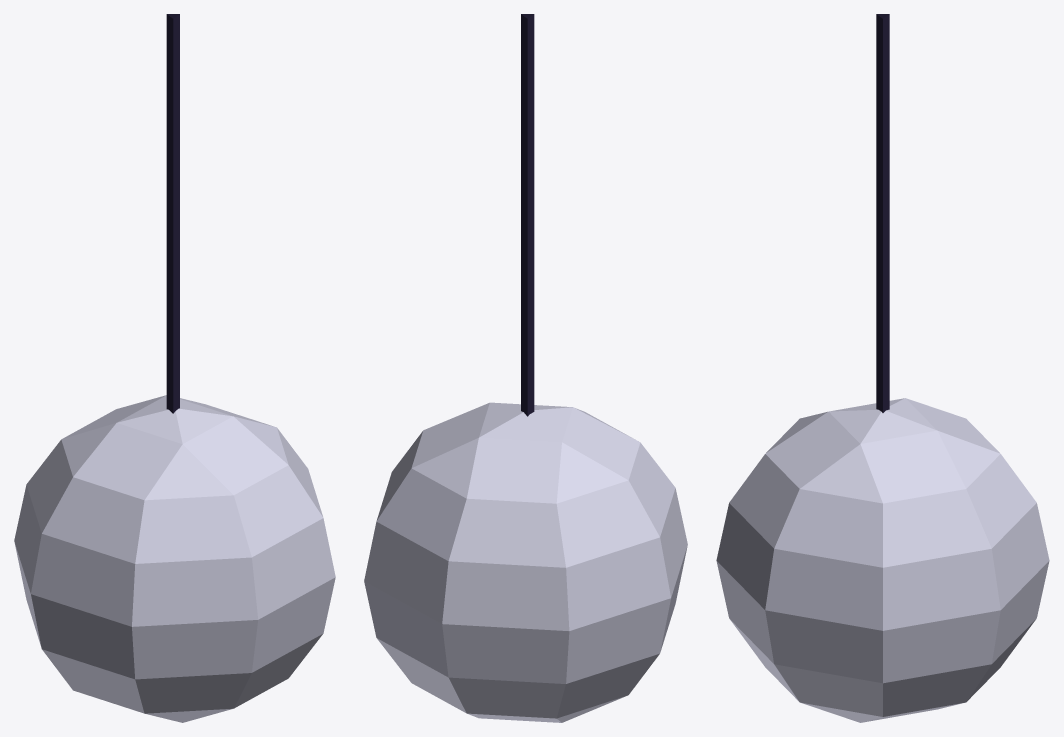
File: ball_mesh.fbx
3 views of the same model, side by side, from view 1: azimuth 30°, elevation 25°; view 2: azimuth 150°, elevation 25°; view 3: azimuth 270°, elevation 25° (orthographic).
Visible parts, largest first — view 1: ball_mesh; view 2: ball_mesh; view 3: ball_mesh.
Part boxes in pixels (x1,y1,x2,y2): ball_mesh: [14, 14, 335, 722]; ball_mesh: [364, 14, 687, 722]; ball_mesh: [716, 14, 1049, 722].
Bounding box in the file's own units: 0.9176 × 2.11 × 0.9176.
